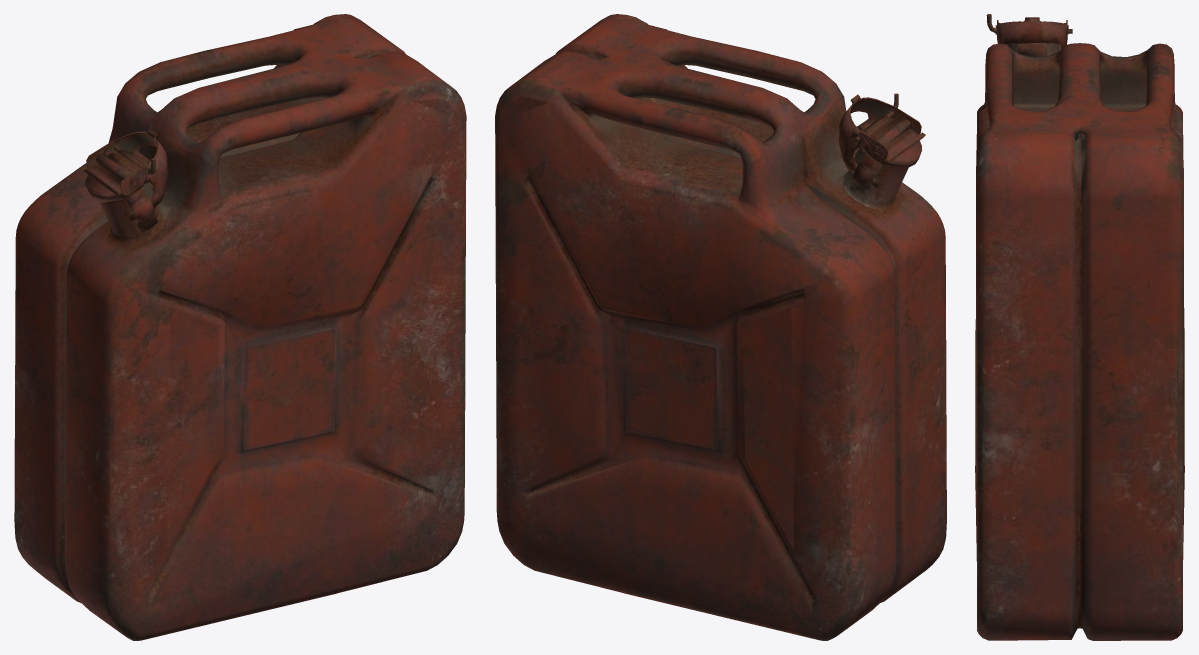
File: ph_jerrycan.gltf
3 views of the same model, side by side, from view 1: azimuth 30°, elevation 25°; view 2: azimuth 150°, elevation 25°; view 3: azimuth 270°, elevation 25° (orthographic). The views are drawn at different scales.
Visible parts, largest first — view 1: Body; view 2: Body; view 3: Body.
Part boxes in pixels (bbox=[...]): Body: bbox=[14, 14, 466, 640]; Body: bbox=[495, 14, 946, 640]; Body: bbox=[975, 14, 1184, 640].
Size of the model in its own units: 0.3502 by 0.455 by 0.172.
Materials: 1 (1 with a texture image).
